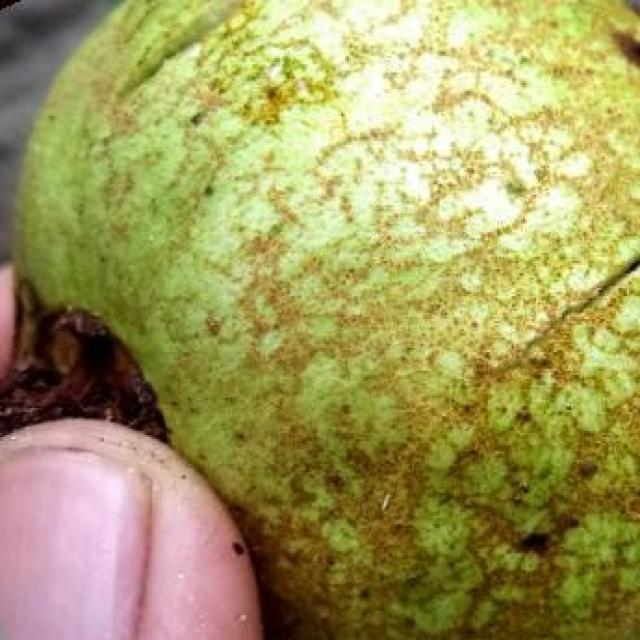Scab: (0, 1, 640, 637)
